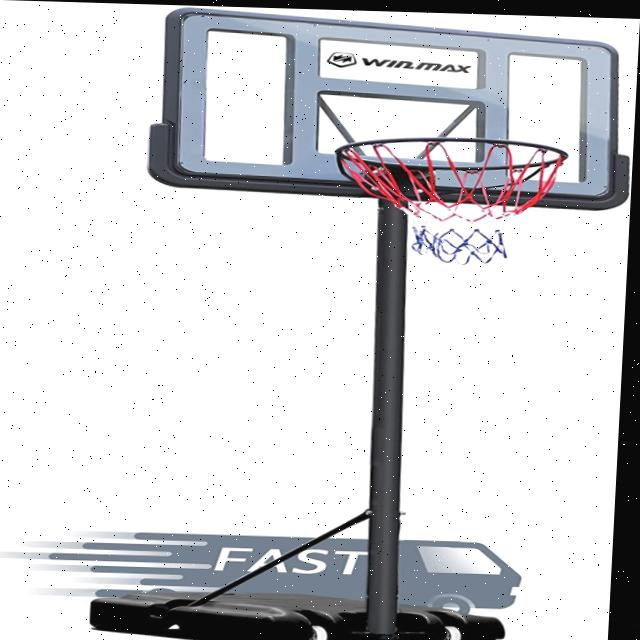hoop: (329, 134, 570, 268)
